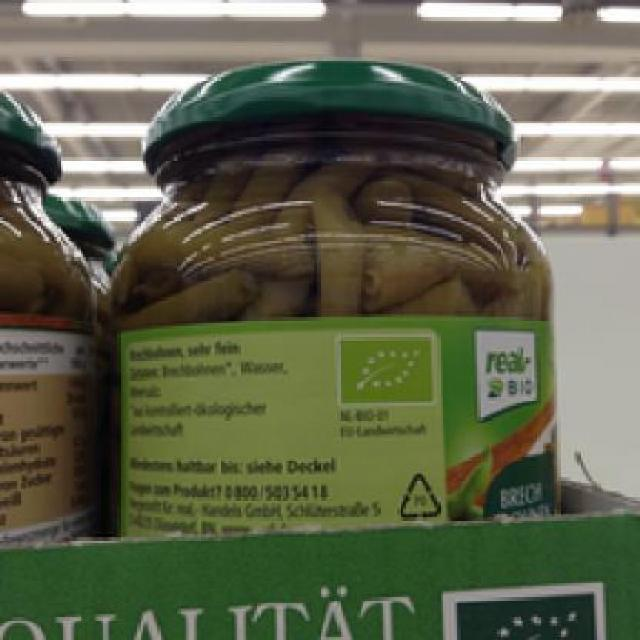Beans: (111, 57, 564, 534)
